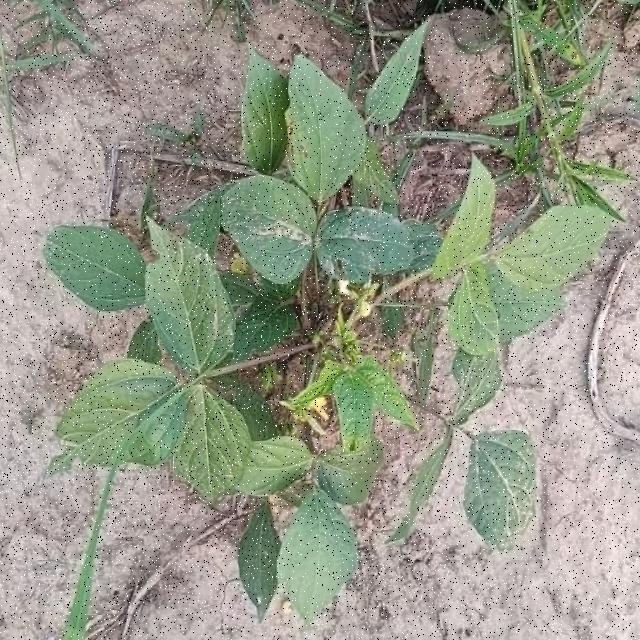plant: (46, 26, 610, 636), (464, 431, 535, 549)
